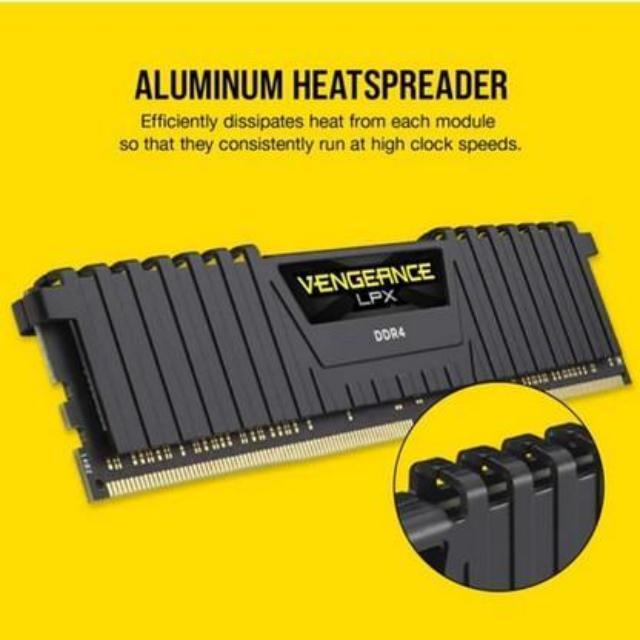RAM: (13, 215, 635, 493)
